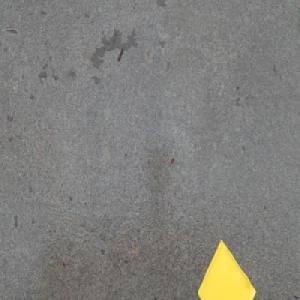PlasticPart: (196, 237, 256, 300)
